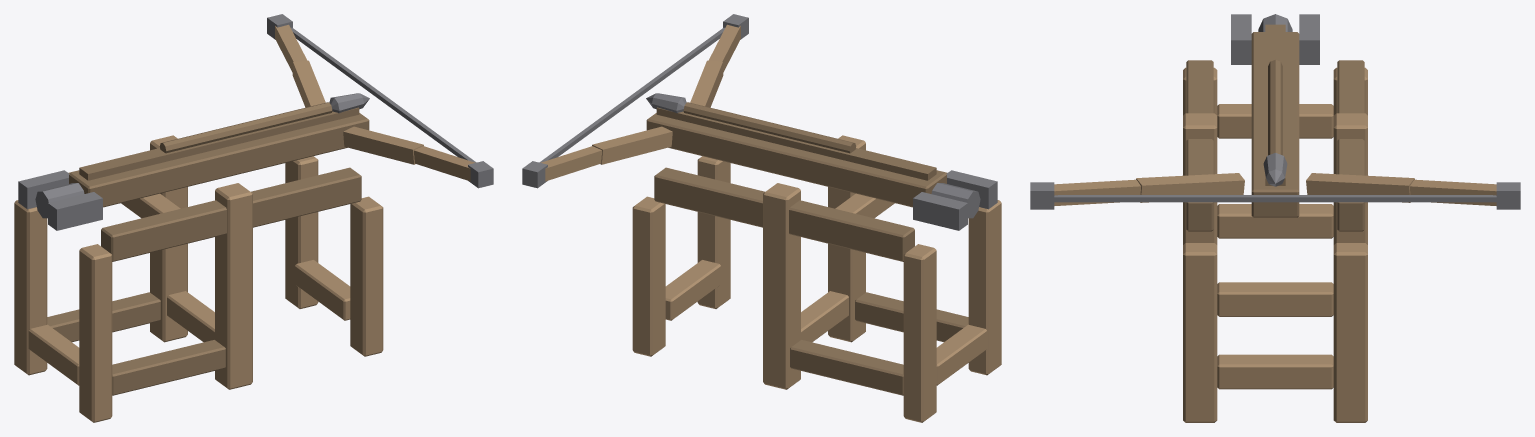
File: prop-ballista.fbx
The picture shows the model from 3 angles, left to right: view 1: azimuth 30°, elevation 25°; view 2: azimuth 150°, elevation 25°; view 3: azimuth 270°, elevation 25°; orthographic projection. The views are drawn at different scales.
Parts seen in each view (by area): view 1: prop-ballista; view 2: prop-ballista; view 3: prop-ballista.
Part boxes in pixels (box(x1,y1,x2,y2)): prop-ballista: box(14, 14, 493, 422); prop-ballista: box(522, 14, 1001, 422); prop-ballista: box(1030, 14, 1520, 422).
Size of the model in its own units: 1.37 by 0.855 by 1.43.
